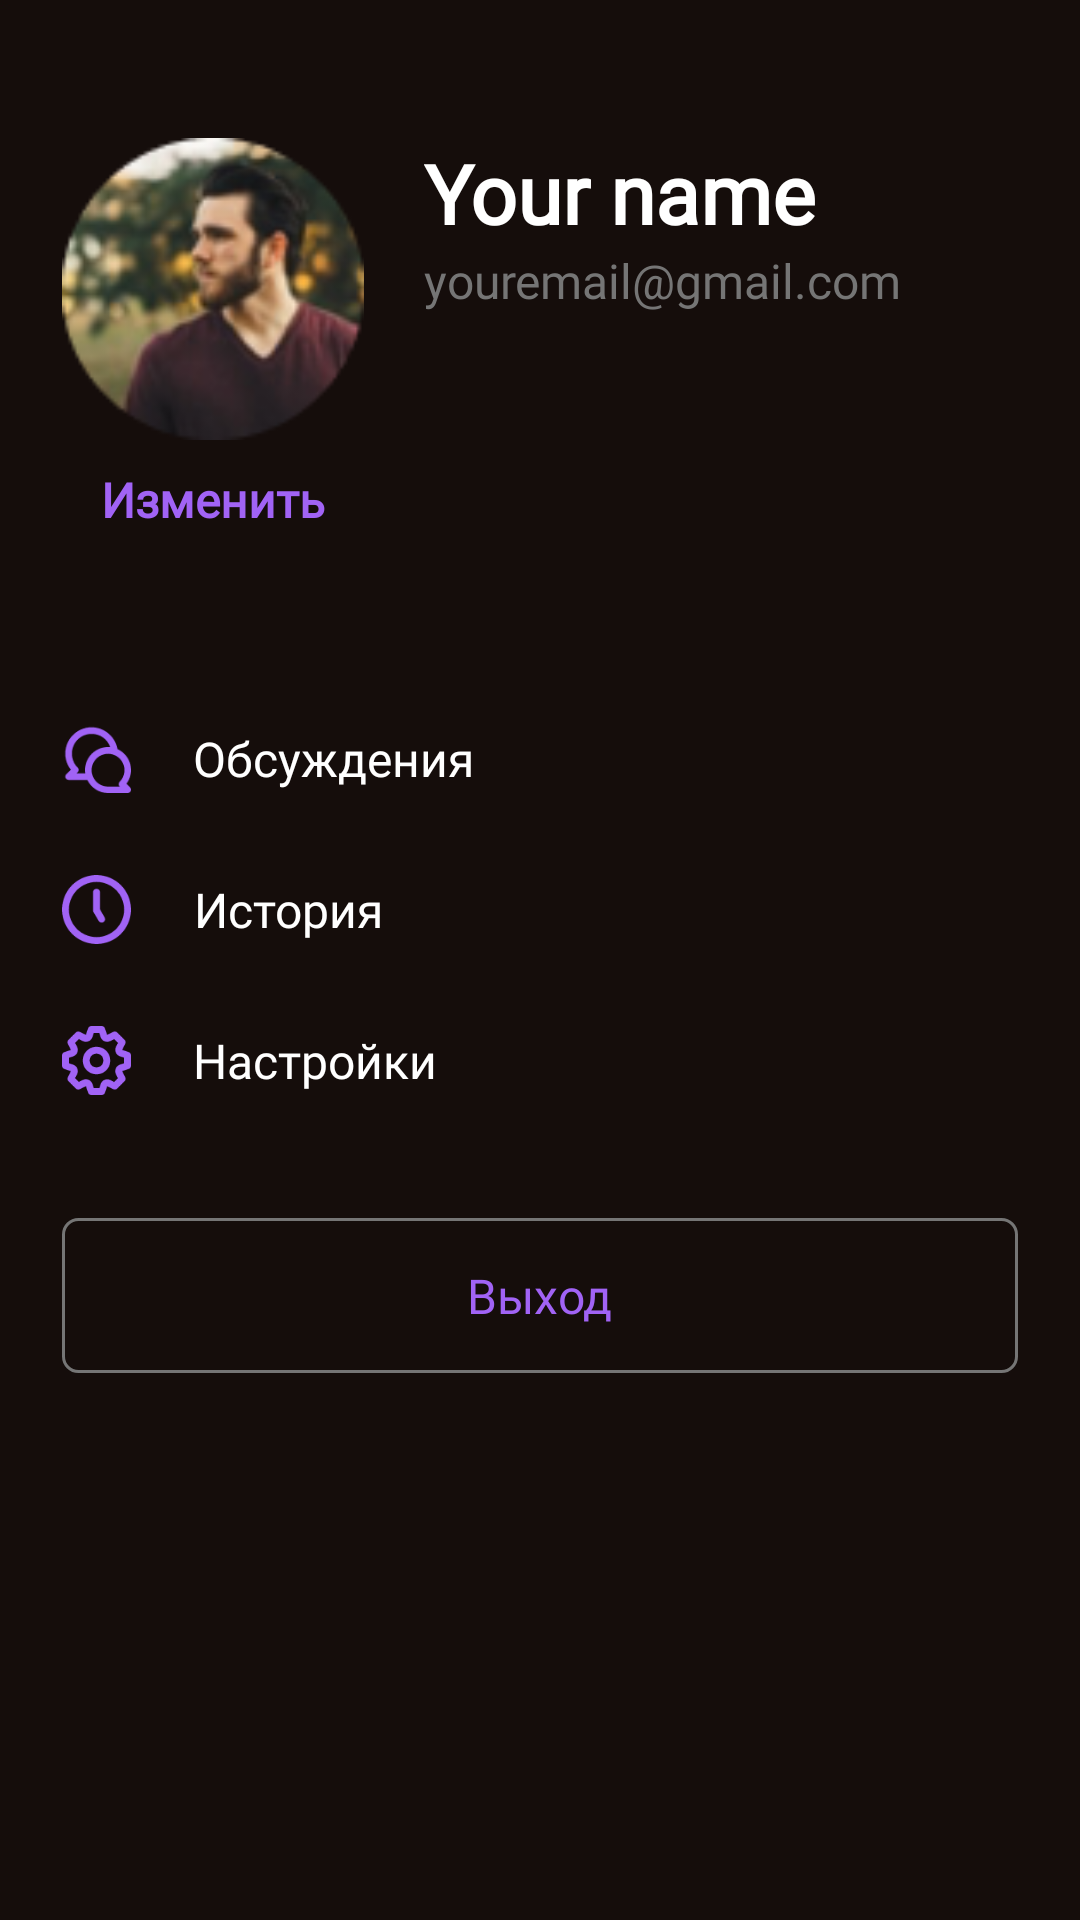

Locate icon controls on the screen. Image size 1080px×1920px, boxes as detection(x1, y1, x2, y2).
ava: detection(62, 138, 364, 440)
chats: detection(65, 727, 131, 793)
clock: detection(62, 875, 131, 944)
settings: detection(62, 1026, 131, 1095)
